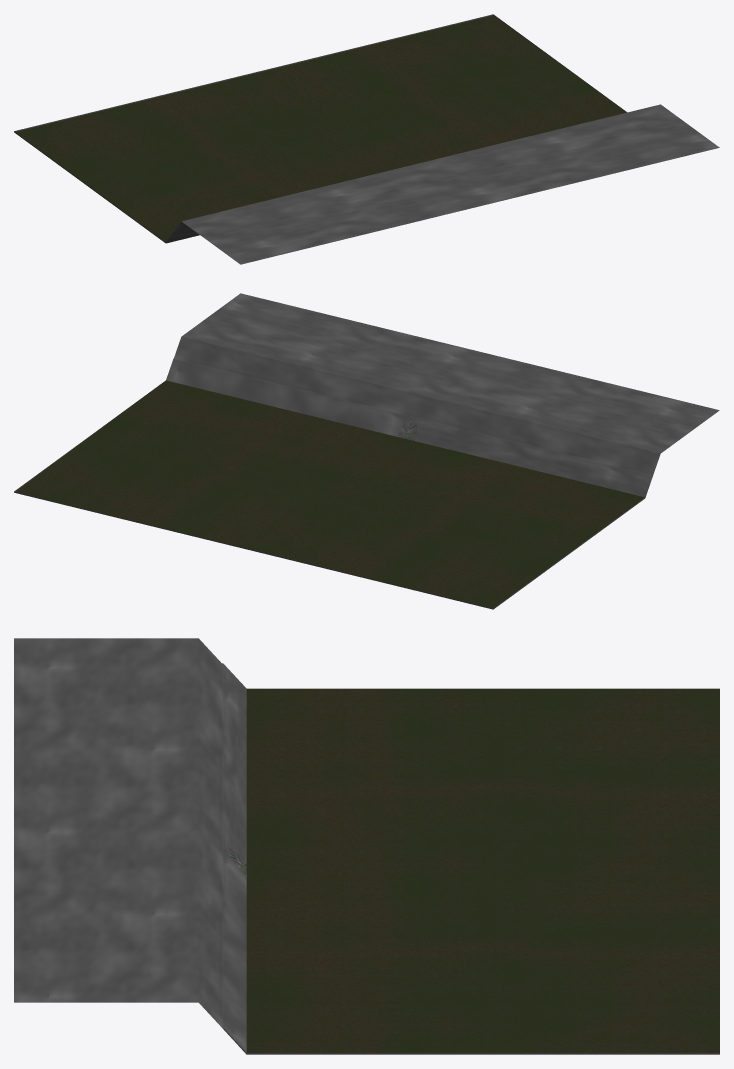
File: Wood_Begin.fbx
The picture shows the model from 3 angles, top to bottom: view 1: azimuth 30°, elevation 25°; view 2: azimuth 150°, elevation 25°; view 3: azimuth 270°, elevation 25°; orthographic projection. The views are drawn at different scales.
Visible parts, largest first — view 1: Terrain; view 2: Terrain; view 3: Terrain.
Part boxes in pixels (x1,y1,x2,y2): Terrain: [14, 14, 719, 264]; Terrain: [14, 293, 719, 609]; Terrain: [14, 638, 719, 1054].
Size of the model in its own units: 6684 by 446 by 5473.
